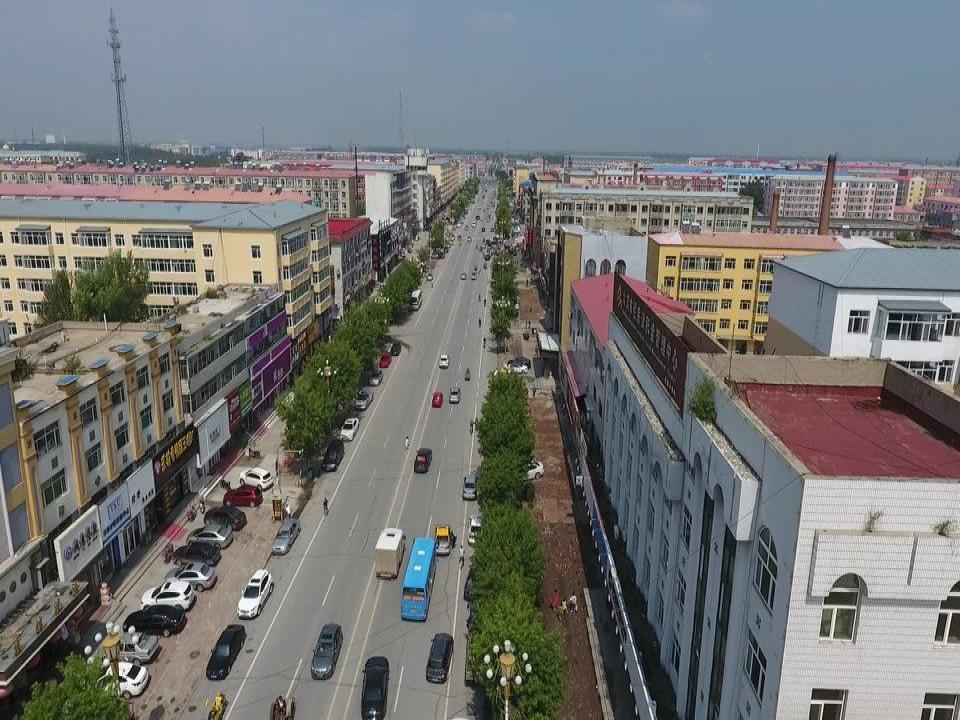bus: (400, 536, 436, 621), (409, 291, 422, 309)
car: (79, 660, 148, 700), (205, 624, 247, 680), (122, 604, 187, 637), (97, 632, 159, 665), (360, 656, 391, 720), (310, 621, 343, 680), (236, 568, 273, 619), (162, 561, 215, 592), (140, 581, 193, 611), (425, 633, 453, 684), (172, 542, 220, 567), (185, 526, 233, 550), (203, 505, 246, 531), (270, 518, 301, 554), (222, 485, 263, 510), (462, 559, 485, 601), (238, 467, 273, 492), (506, 460, 544, 481), (322, 440, 344, 471), (432, 524, 451, 556), (339, 417, 359, 442), (413, 448, 432, 472), (468, 515, 482, 545), (462, 475, 477, 501), (492, 297, 519, 311), (492, 307, 518, 320), (507, 357, 531, 369), (368, 368, 384, 385), (506, 362, 528, 374), (448, 387, 460, 404), (379, 352, 391, 368), (390, 341, 402, 356), (431, 391, 443, 406), (438, 356, 449, 368), (460, 271, 466, 280)
truck: (466, 598, 492, 686), (374, 528, 406, 580)
van: (354, 386, 374, 410), (471, 269, 476, 280)
